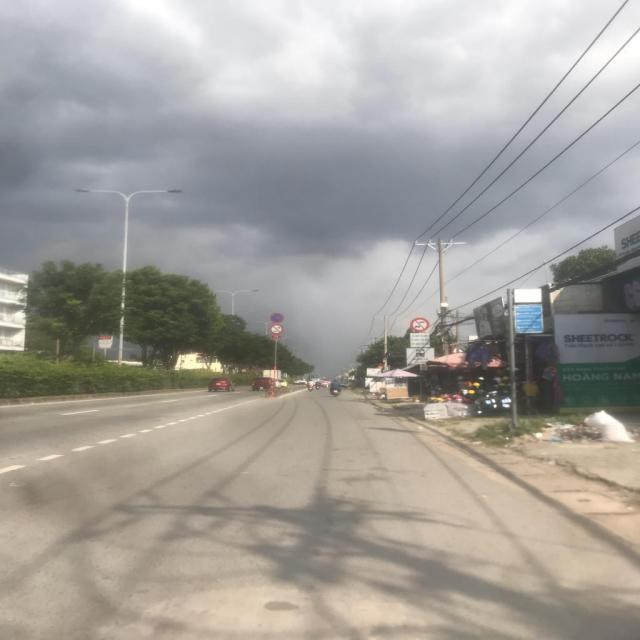107-cam-oto-khach-va-oto-tai: (410, 316, 430, 332)
